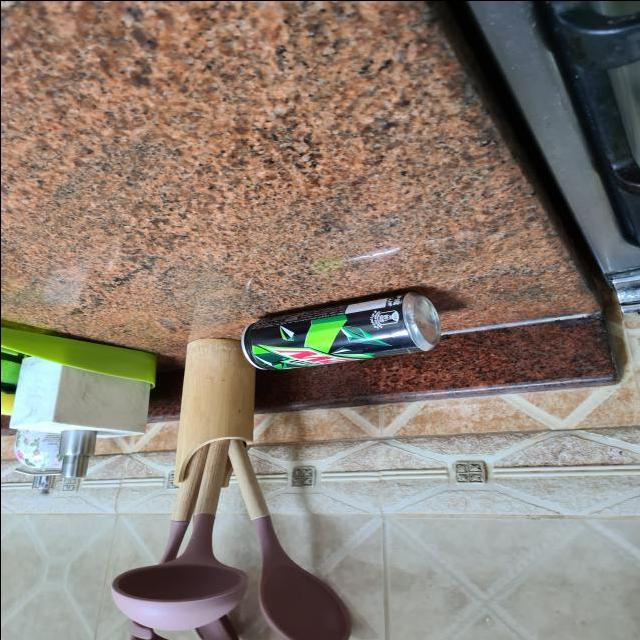can: (239, 298, 433, 372)
